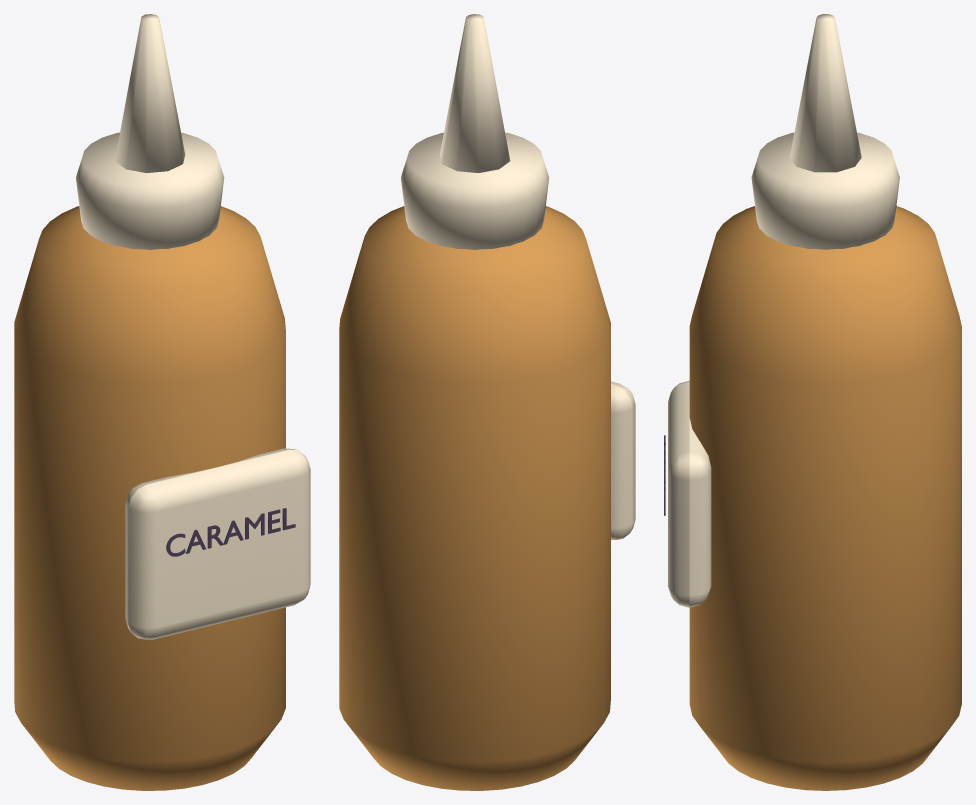
File: Caramel_sauce_dispenser.fbx
The picture shows the model from 3 angles, left to right: view 1: azimuth 30°, elevation 25°; view 2: azimuth 150°, elevation 25°; view 3: azimuth 270°, elevation 25°; orthographic projection.
Parts seen in each view (by area): view 1: Toon_Caramel_sauce_dispenser Working bottle.001, Toon_Caramel_sauce_dispenser Bottle label.001, Toon_Caramel_sauce_dispenser Cap.001, Toon_Caramel_sauce_dispenser Pour nozzle.001, Bottle name.007; view 2: Toon_Caramel_sauce_dispenser Working bottle.001, Toon_Caramel_sauce_dispenser Cap.001, Toon_Caramel_sauce_dispenser Pour nozzle.001, Toon_Caramel_sauce_dispenser Bottle label.001; view 3: Toon_Caramel_sauce_dispenser Working bottle.001, Toon_Caramel_sauce_dispenser Cap.001, Toon_Caramel_sauce_dispenser Bottle label.001, Toon_Caramel_sauce_dispenser Pour nozzle.001.
Boxes of the visible parts, x1=… form: Toon_Caramel_sauce_dispenser Working bottle.001: x1=14, y1=206, x2=285, y2=790; Toon_Caramel_sauce_dispenser Bottle label.001: x1=125, y1=448, x2=310, y2=639; Toon_Caramel_sauce_dispenser Cap.001: x1=76, y1=132, x2=224, y2=249; Toon_Caramel_sauce_dispenser Pour nozzle.001: x1=115, y1=14, x2=185, y2=173; Bottle name.007: x1=166, y1=508, x2=295, y2=556; Toon_Caramel_sauce_dispenser Working bottle.001: x1=339, y1=206, x2=610, y2=790; Toon_Caramel_sauce_dispenser Cap.001: x1=401, y1=132, x2=549, y2=249; Toon_Caramel_sauce_dispenser Pour nozzle.001: x1=440, y1=14, x2=510, y2=172; Toon_Caramel_sauce_dispenser Bottle label.001: x1=611, y1=381, x2=635, y2=539; Toon_Caramel_sauce_dispenser Working bottle.001: x1=689, y1=206, x2=961, y2=790; Toon_Caramel_sauce_dispenser Cap.001: x1=751, y1=132, x2=899, y2=249; Toon_Caramel_sauce_dispenser Bottle label.001: x1=668, y1=380, x2=711, y2=607; Toon_Caramel_sauce_dispenser Pour nozzle.001: x1=789, y1=14, x2=861, y2=172.
Bounding box in the file's own units: 8.8 × 26 × 9.62.
